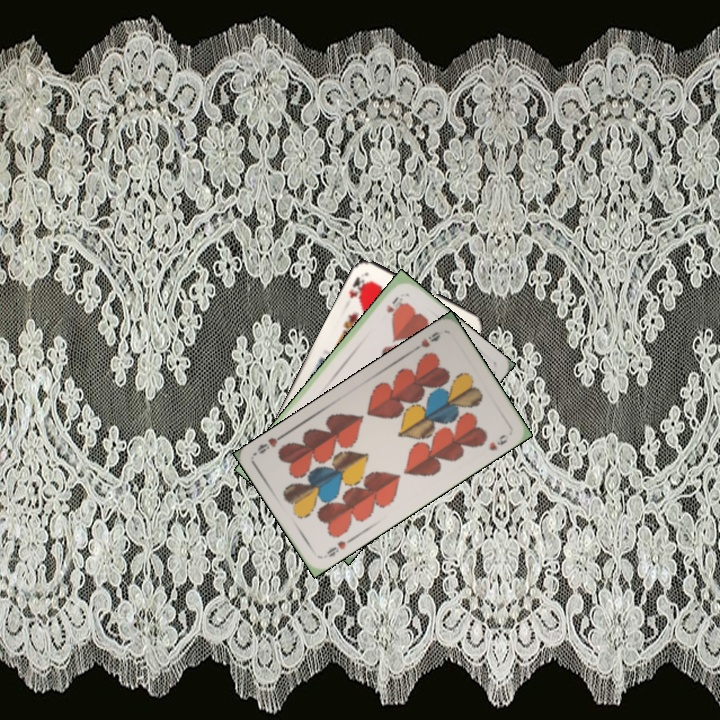H9: (409, 328, 444, 354), (323, 534, 356, 560)
HK: (344, 272, 370, 301)
HO: (382, 292, 405, 315)
